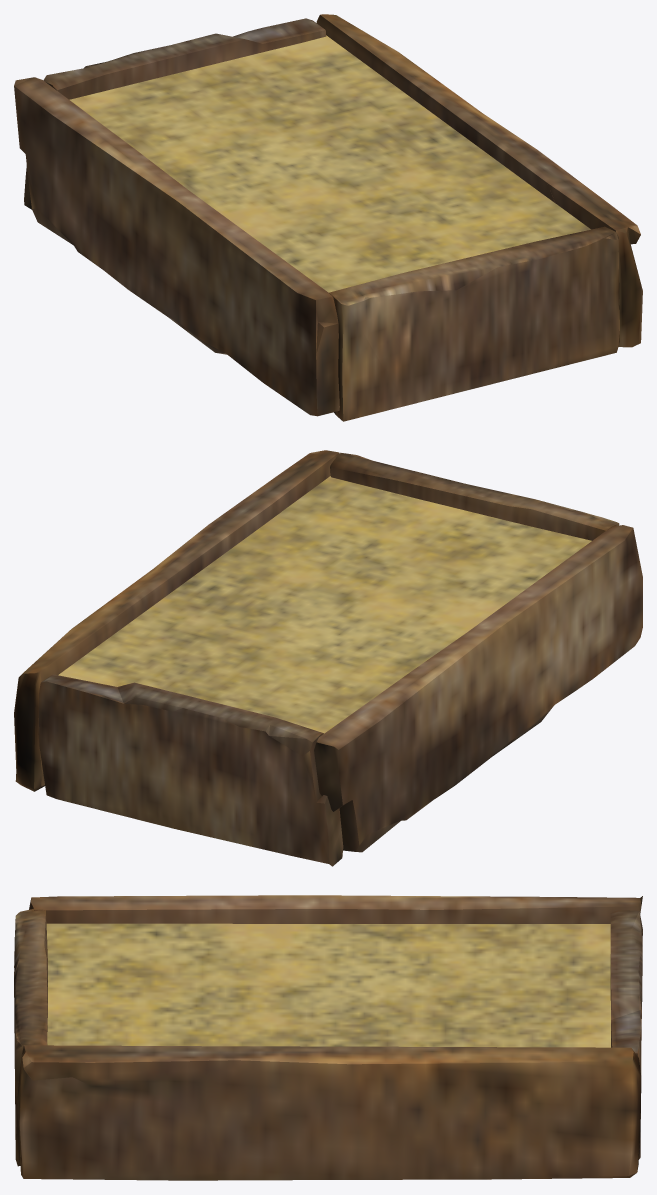
Rendered from ammomaker_Mold.fbx.
The picture shows the model from 3 angles, top to bottom: view 1: azimuth 30°, elevation 25°; view 2: azimuth 150°, elevation 25°; view 3: azimuth 270°, elevation 25°; orthographic projection. The views are drawn at different scales.
Visible parts, largest first — view 1: ammomaker_Mold; view 2: ammomaker_Mold; view 3: ammomaker_Mold.
Part boxes in pixels (left/top/right/bottom): ammomaker_Mold: left=14, top=14, right=642, bottom=421; ammomaker_Mold: left=14, top=450, right=642, bottom=866; ammomaker_Mold: left=14, top=895, right=642, bottom=1180.
Size of the model in its own units: 16.41 by 5.92 by 26.45.
